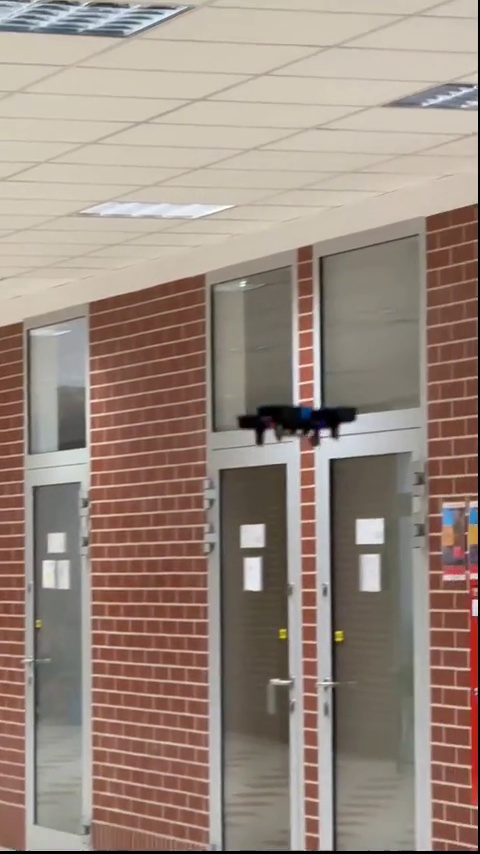drone: (238, 403, 357, 443)
